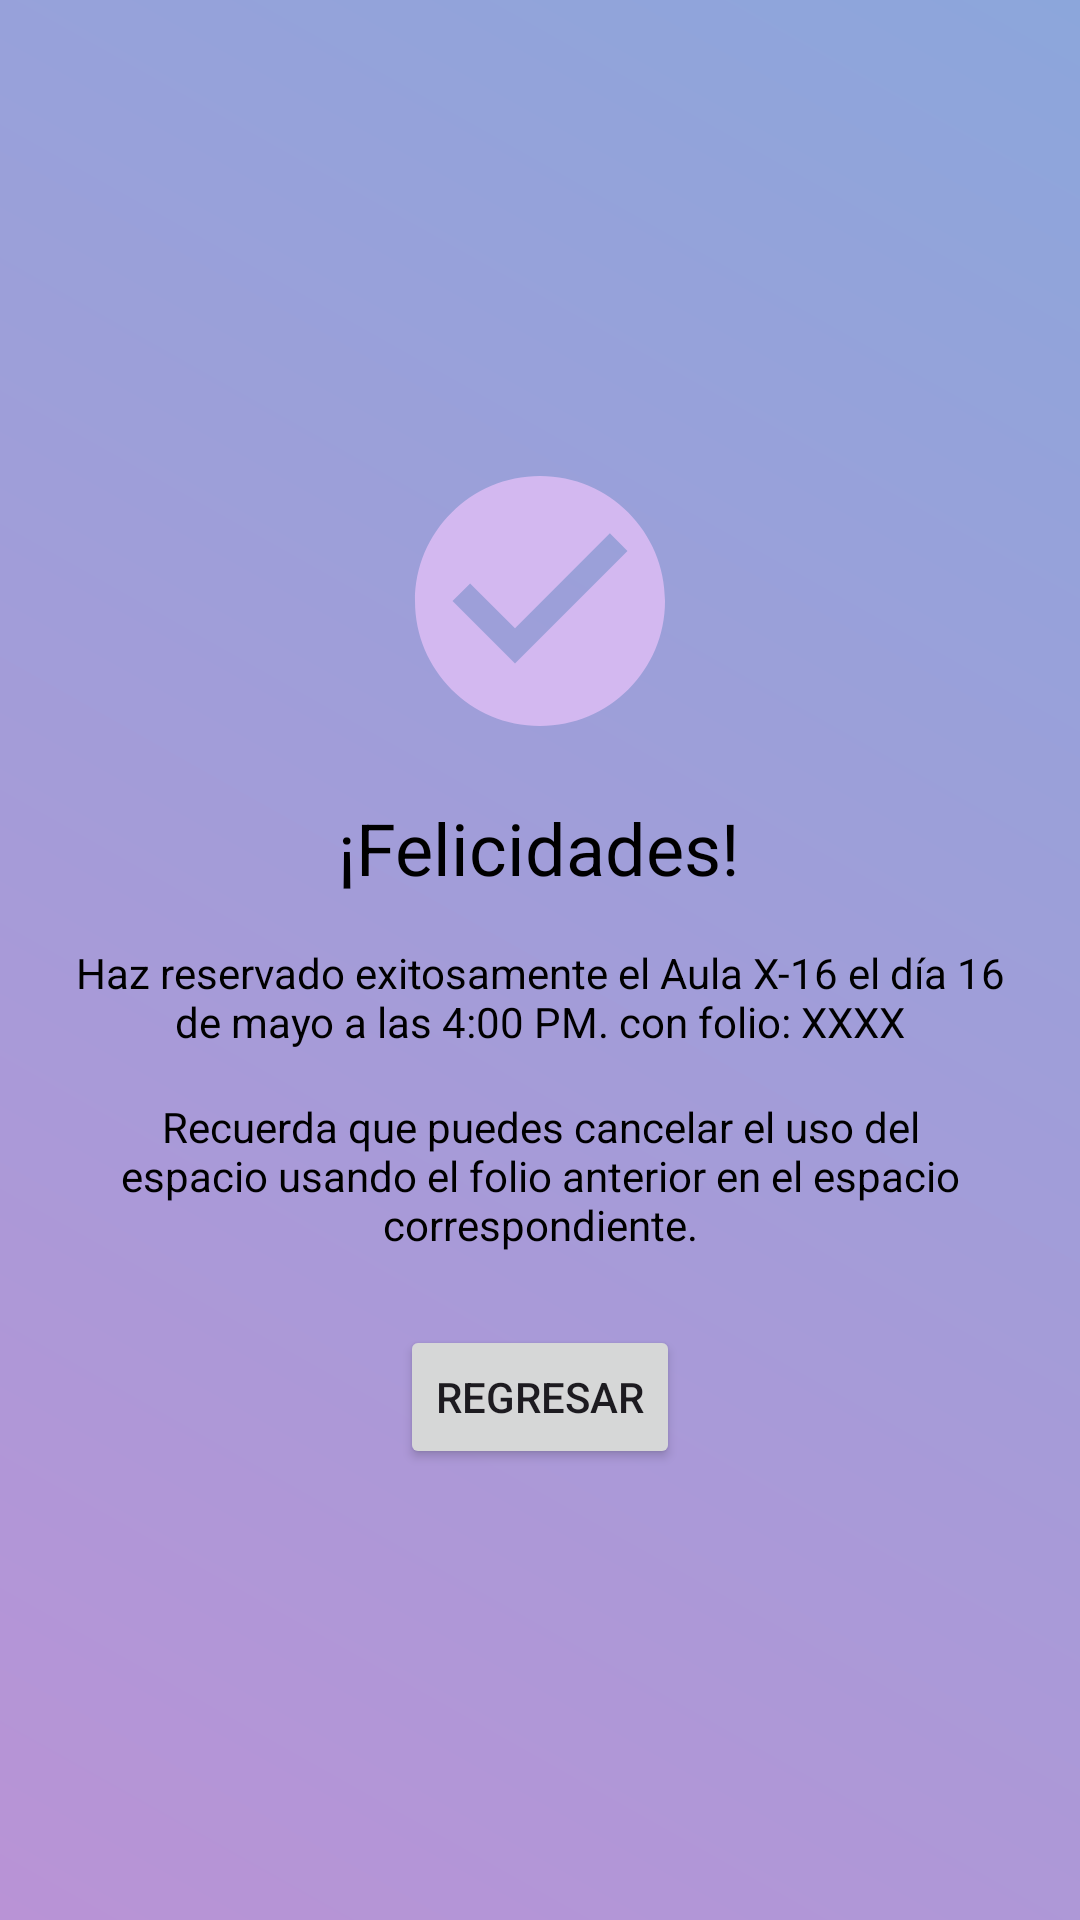

Named icons in this screenshot (1080x1920) and their bounding boxes, (x1, y1, x2, y2):
check: (415, 476, 665, 726)
